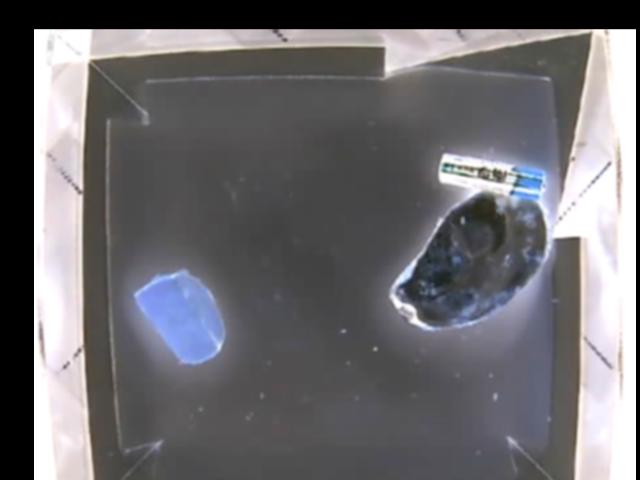Battery: (437, 150, 547, 199)
Potato: (134, 270, 229, 365)
Shell: (390, 189, 553, 332)
